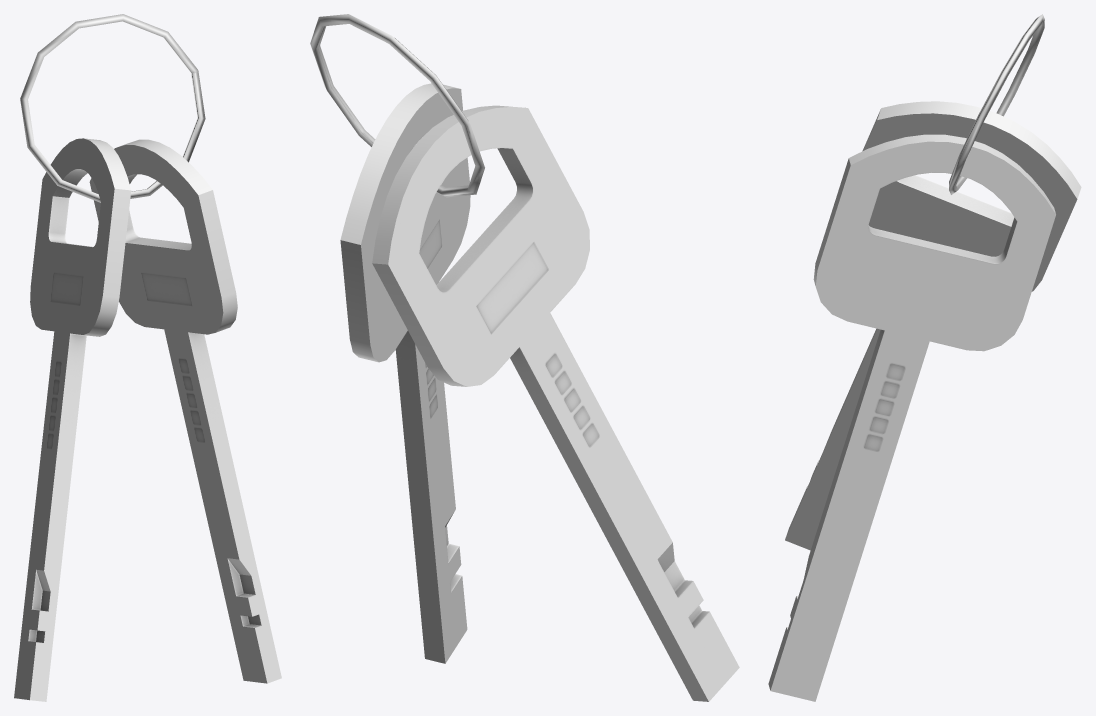
File: keys.glb
3 renders of one model, left to right at view 1: azimuth 30°, elevation 25°; view 2: azimuth 150°, elevation 25°; view 3: azimuth 270°, elevation 25°, orthographic. The views are drawn at different scales.
Parts seen in each view (by area): view 1: key_low.002_1, key_low.001_0, kayattach_low_2; view 2: key_low.001_0, key_low.002_1, kayattach_low_2; view 3: key_low.002_1, key_low.001_0, kayattach_low_2.
Part boxes in pixels (x1,y1,x2,y2): key_low.002_1: [89, 139, 281, 683]; key_low.001_0: [14, 138, 131, 701]; kayattach_low_2: [20, 14, 205, 202]; key_low.001_0: [372, 105, 739, 701]; key_low.002_1: [340, 83, 470, 663]; kayattach_low_2: [310, 14, 484, 197]; key_low.002_1: [768, 134, 1055, 701]; key_low.001_0: [785, 101, 1081, 550]; kayattach_low_2: [949, 14, 1044, 194].
Size of the model in its own units: 0.1524 by 0.34 by 0.1484.
Materials: 1 (1 with a texture image).
